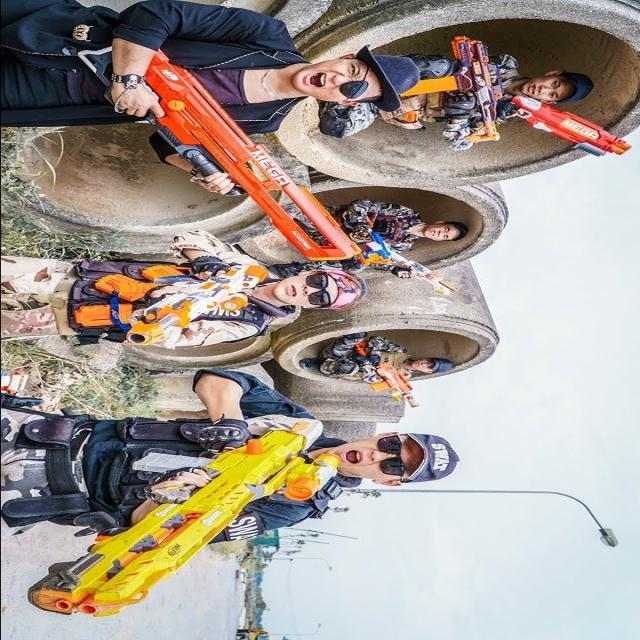Nerf gun: (21, 410, 336, 618), (71, 41, 357, 262), (72, 257, 269, 344), (396, 31, 511, 155), (495, 93, 634, 159), (344, 331, 426, 406), (391, 247, 459, 295), (345, 210, 398, 268)
